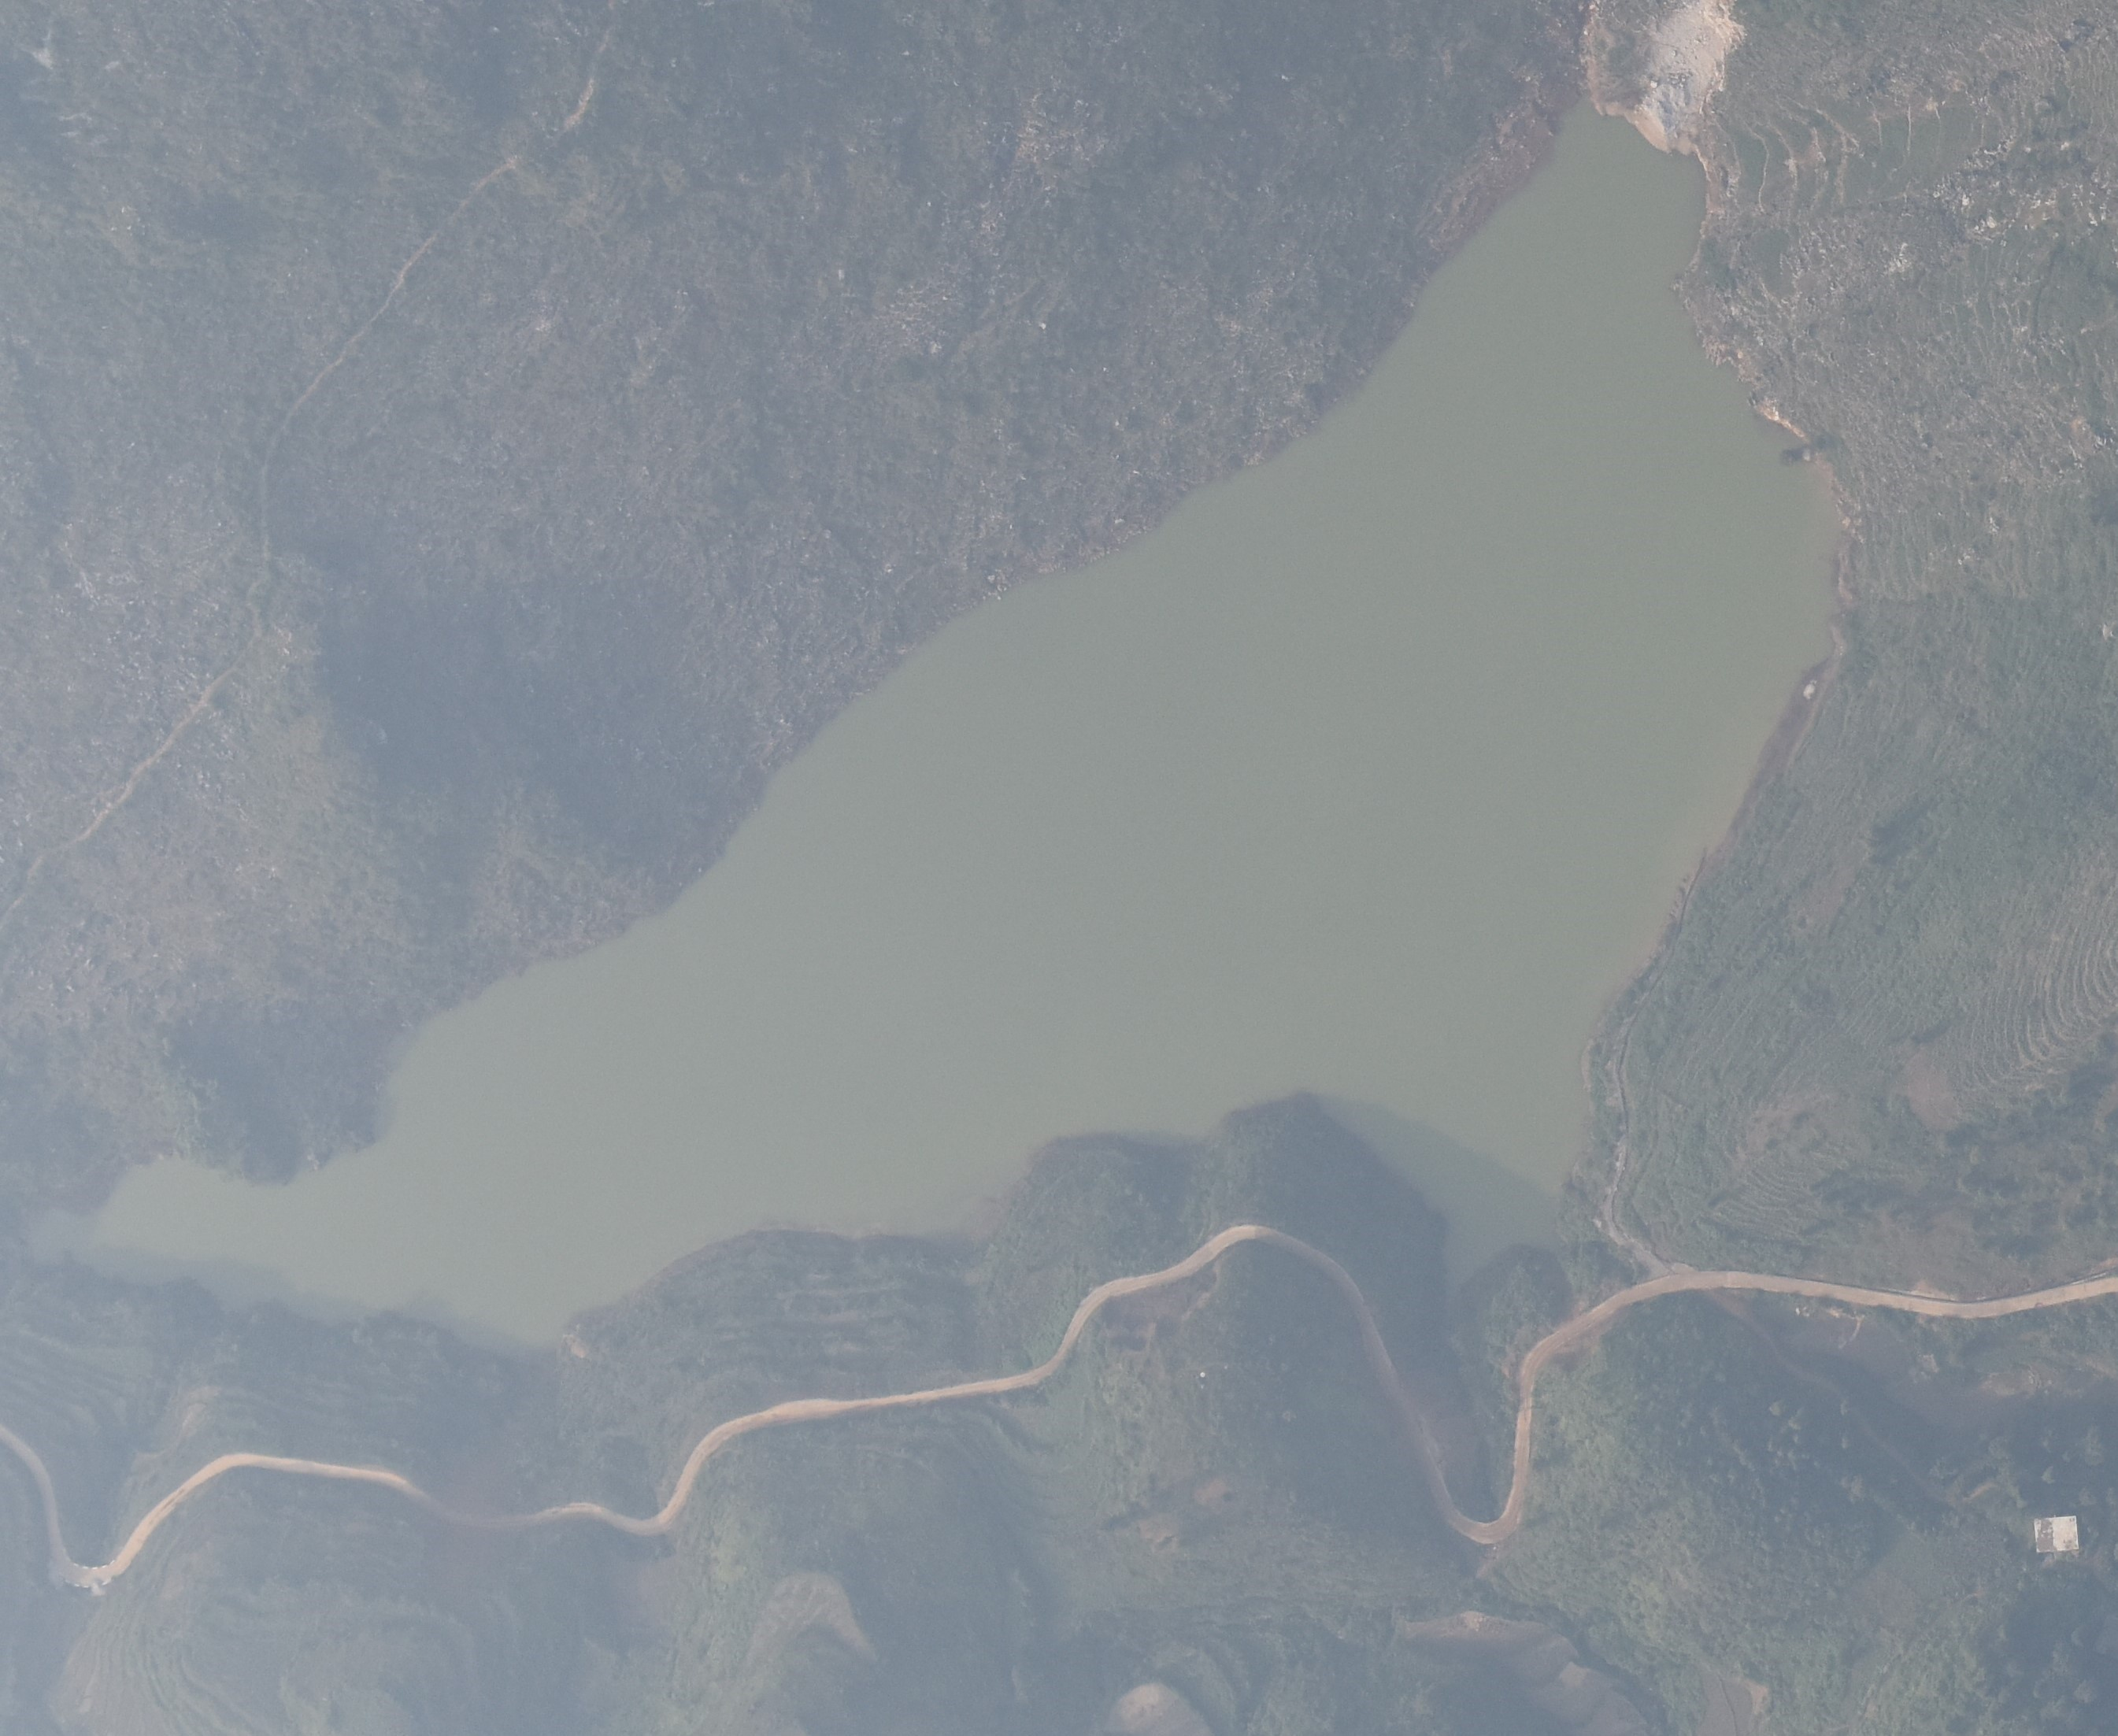building: (2030, 1513, 2081, 1555)
pool: (39, 60, 1840, 1324)
